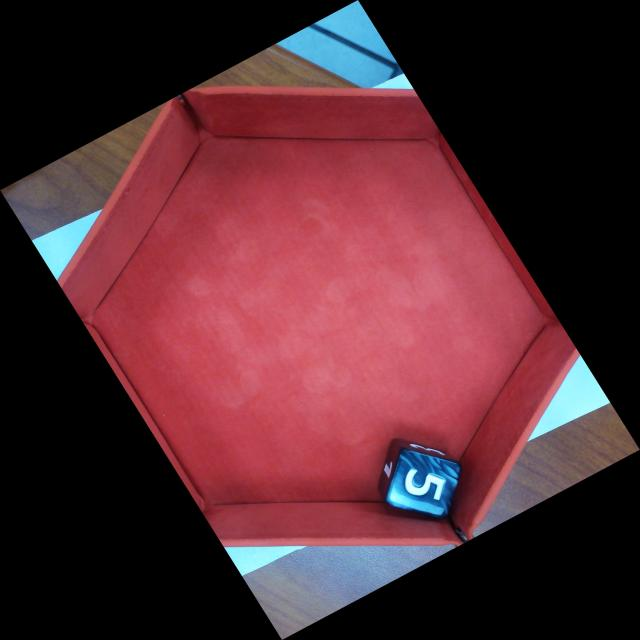dice: (387, 450, 460, 518)
